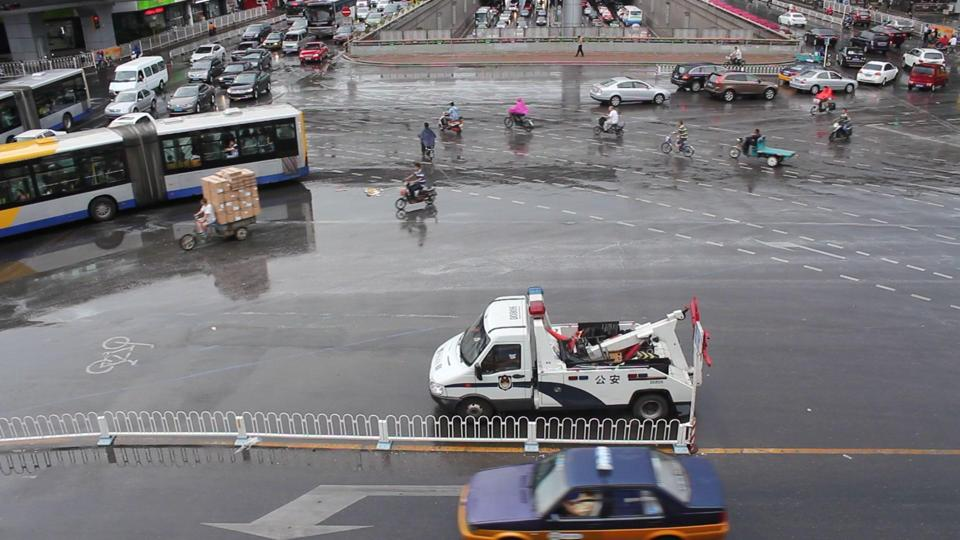Bus: (1, 106, 301, 234)
Car: (587, 75, 669, 106), (705, 70, 776, 101), (669, 61, 741, 91), (788, 68, 856, 94), (777, 62, 838, 83)
Truck: (428, 285, 695, 420)
